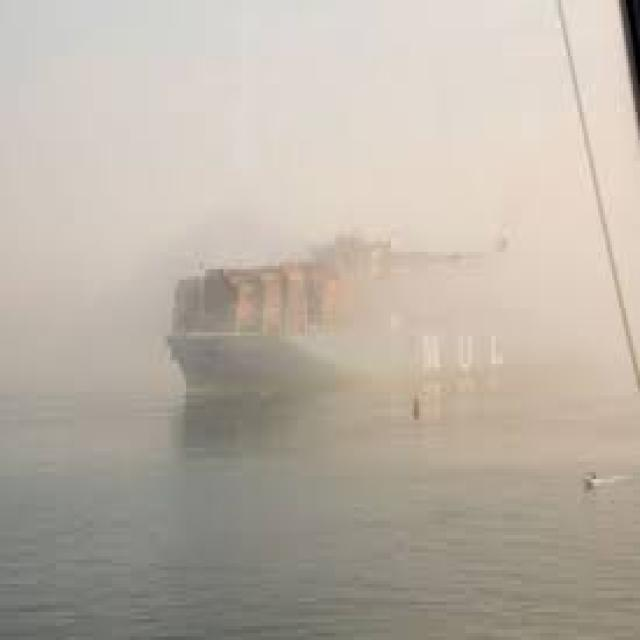cargoship: (164, 226, 519, 410)
